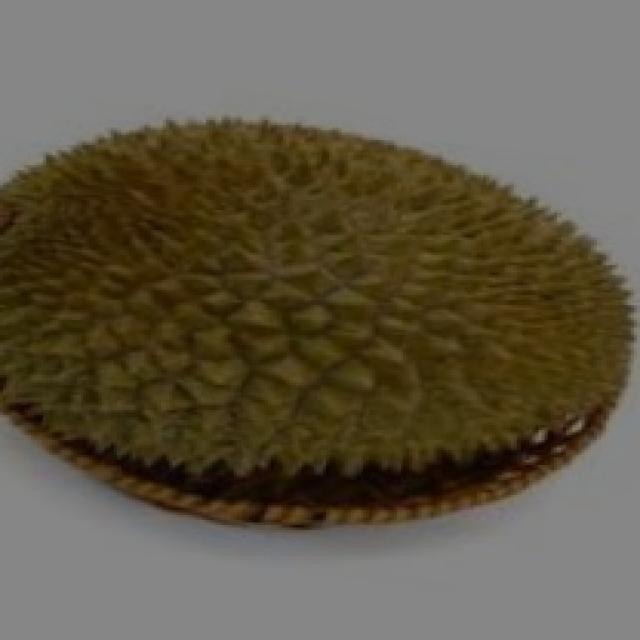fruit: (274, 150, 640, 582), (0, 138, 354, 562)
